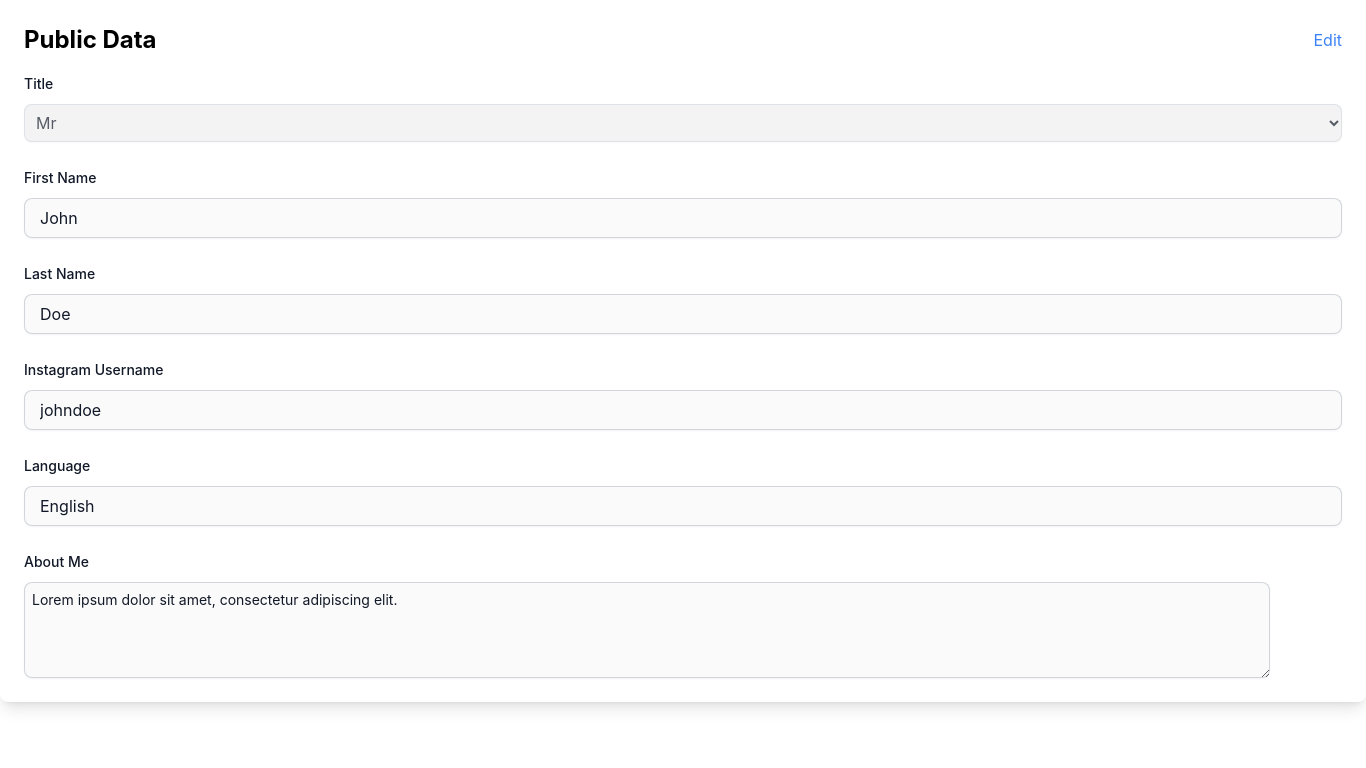
Test: PublicDataCard Component › allows editing when clicking Edit button
Note: Klick auf den "Edit" Button
Click the button "Edit" at point(1328, 40), box [1314,28,1342,52]
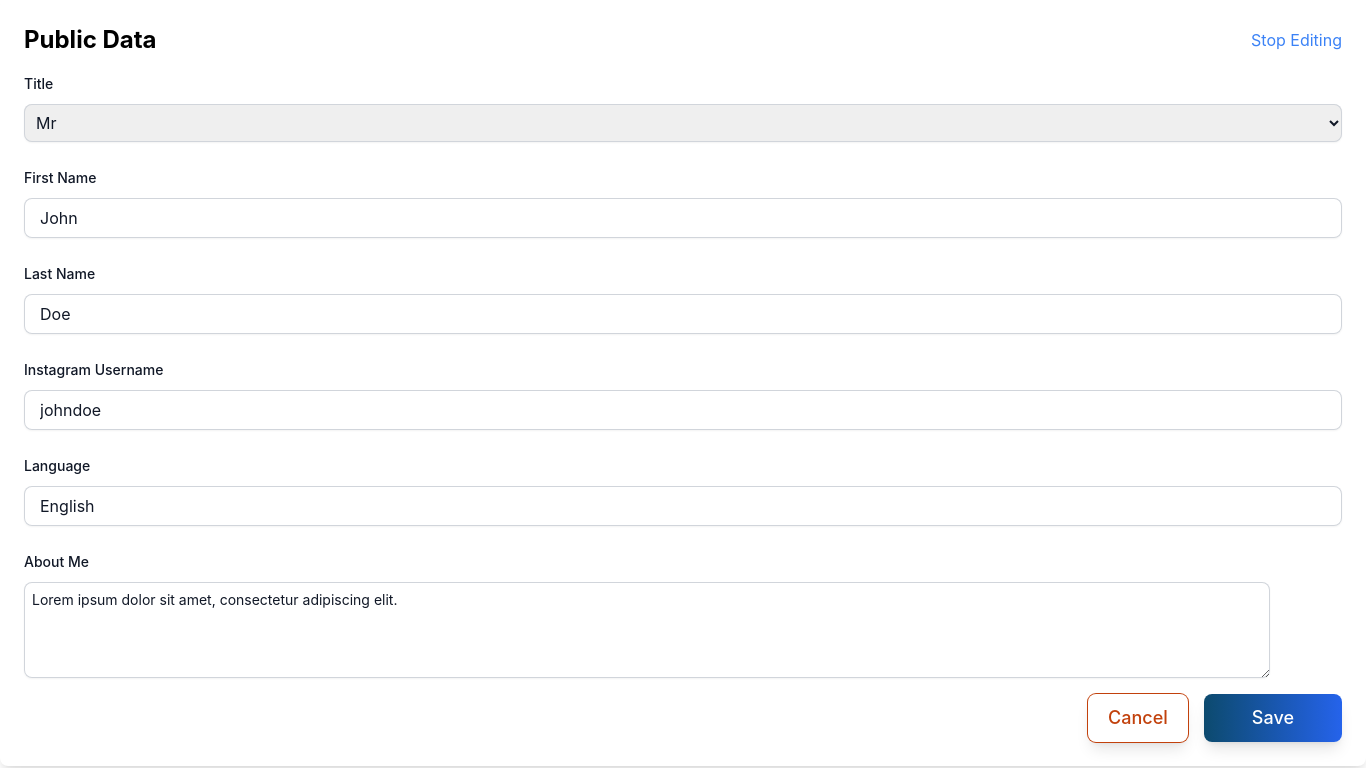
Expected: the field labelled "First Name" is enabled, [24,198,1342,238]
Result: the dropdown labelled "Title" is enabled at [24,104,1342,142]
